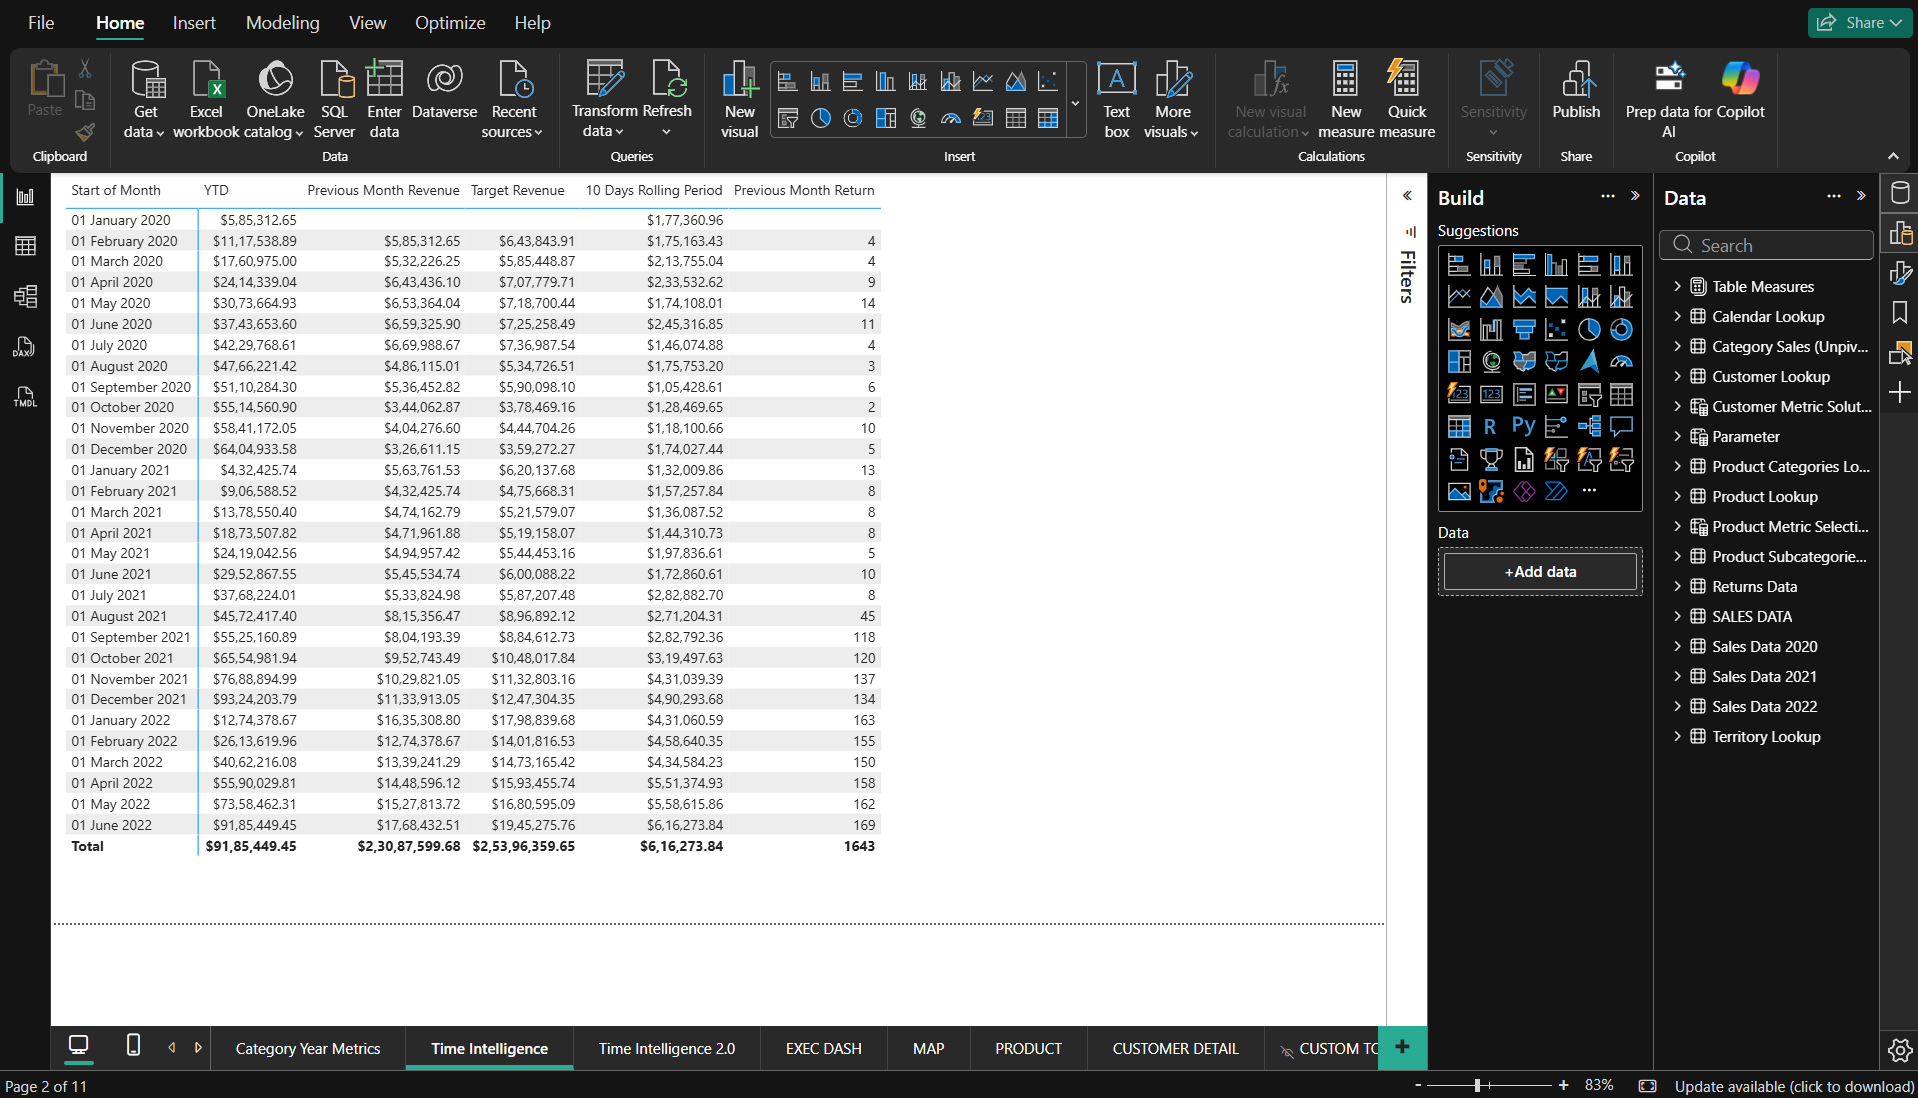

This screenshot's page, from the dashboard's own definition file:
{"tool":"powerbi","page":{"name":"Time Intelligence","canvas":[1280,720],"ordinal":1},"visuals":[{"type":"pivotTable","fields":{"Rows":["Calendar Lookup.Start of Month"],"Values":["Table Measures.YTD","Table Measures.Previous Month Revenue","Table Measures.Target Revenue","Table Measures.10 Days Rolling Period","Table Measures.Previous Month Return"]},"box":[10.1,0,1161.4,719.9],"z":0}]}

Visuals, with their boxes on the page's 1280x720 design canvas (x1, y1, x2, y2). These are canvas units, not pixel positions in the 1918x1098 screenshot, which may show the page scaled, cropped or inside an application window:
pivotTable - Calendar Lookup.Start of Month x Table Measures.YTD: detection(10, 0, 1172, 720)
